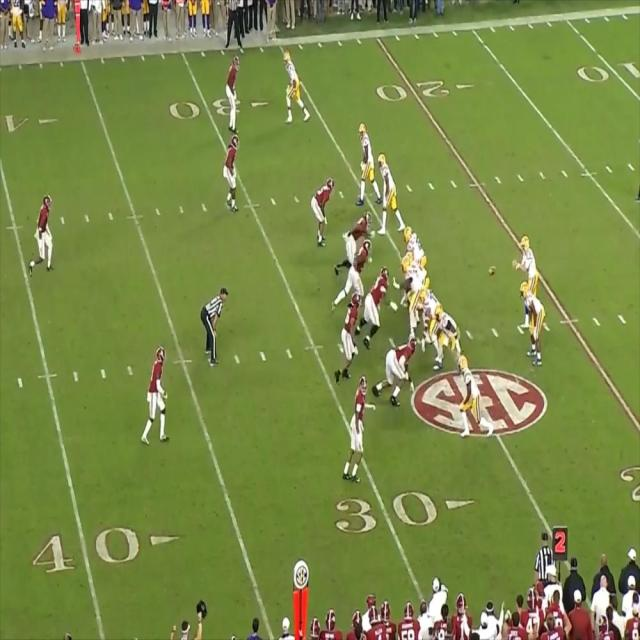center: (401, 264, 423, 314)
db: (147, 347, 167, 445), (351, 380, 367, 478), (36, 196, 51, 275), (227, 53, 242, 126), (226, 134, 240, 211)
lb: (347, 237, 370, 304), (312, 177, 334, 246), (342, 298, 359, 376)
qb: (518, 238, 539, 318)
skill: (524, 281, 547, 363), (458, 364, 483, 434), (378, 153, 400, 229), (283, 52, 306, 118), (357, 122, 375, 195)
